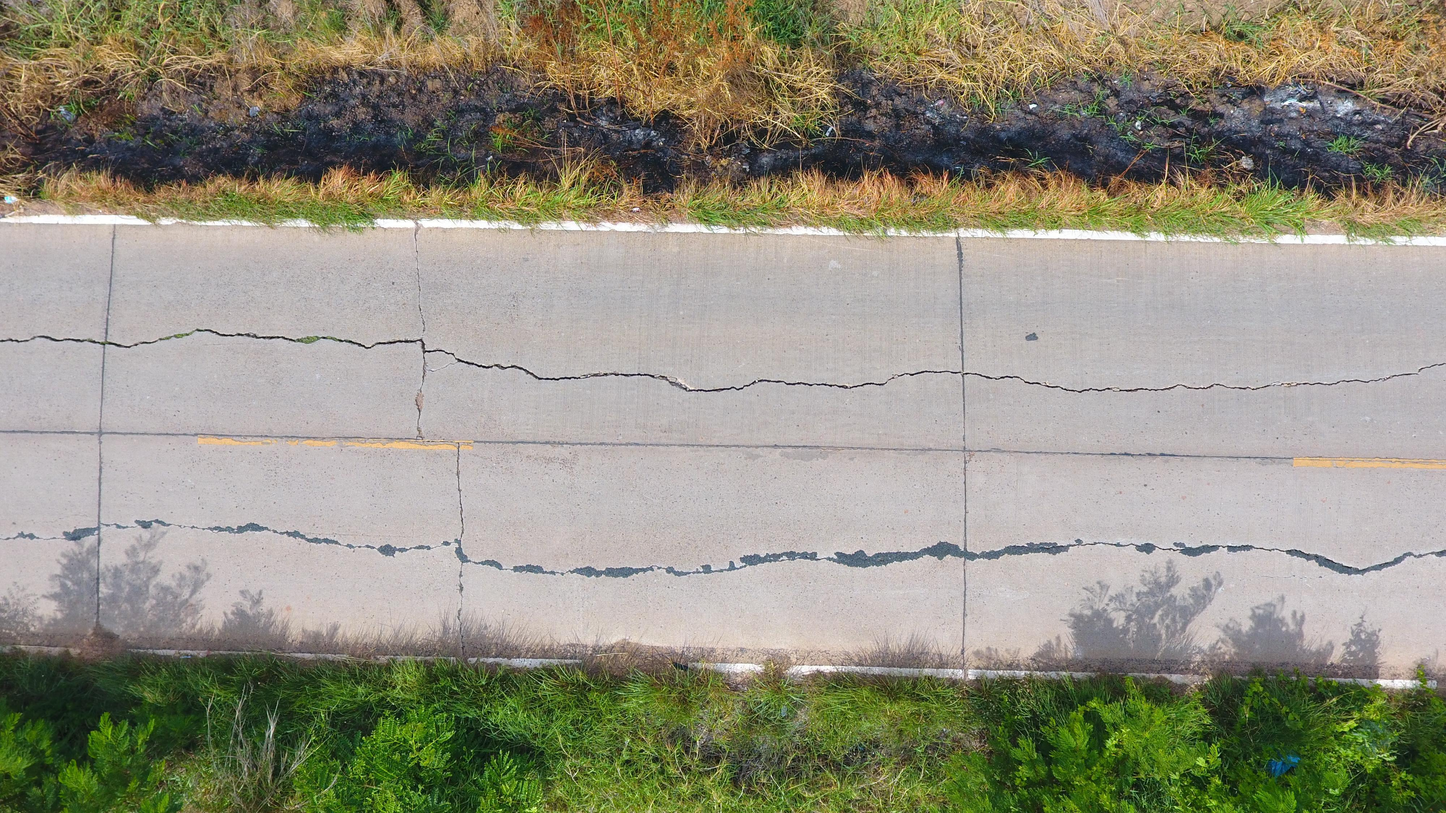GRIETA: (101, 520, 963, 578), (434, 349, 963, 392), (968, 542, 1446, 576), (964, 362, 1446, 393), (92, 328, 422, 349), (461, 441, 963, 452), (103, 432, 456, 444), (965, 450, 1295, 460), (414, 226, 427, 438), (0, 526, 99, 541), (104, 224, 116, 341), (956, 238, 964, 372), (96, 437, 101, 626), (456, 563, 465, 656), (456, 443, 464, 541), (963, 453, 966, 669), (0, 336, 91, 343), (99, 346, 106, 430), (0, 431, 99, 435), (961, 374, 966, 449)
